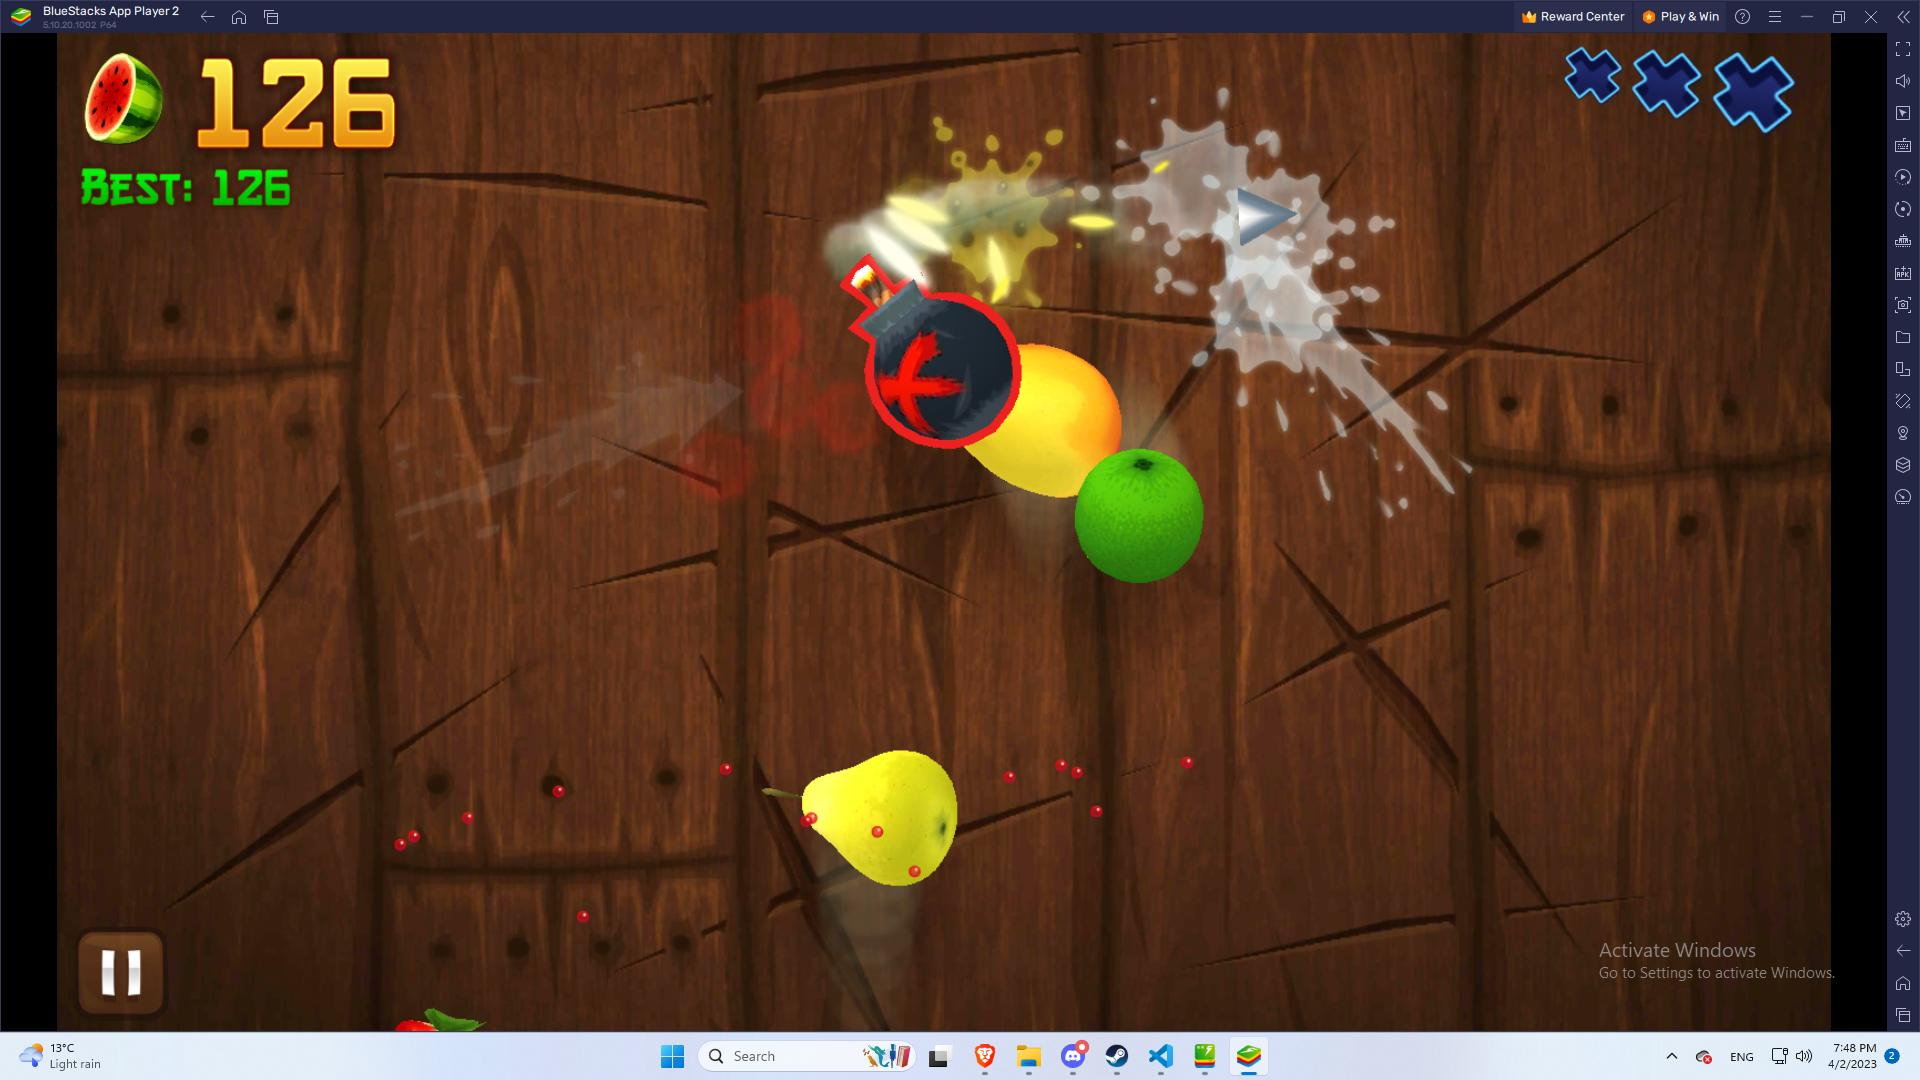bomb: (836, 243, 998, 438)
fruit: (732, 746, 1000, 891), (1076, 452, 1211, 596)
